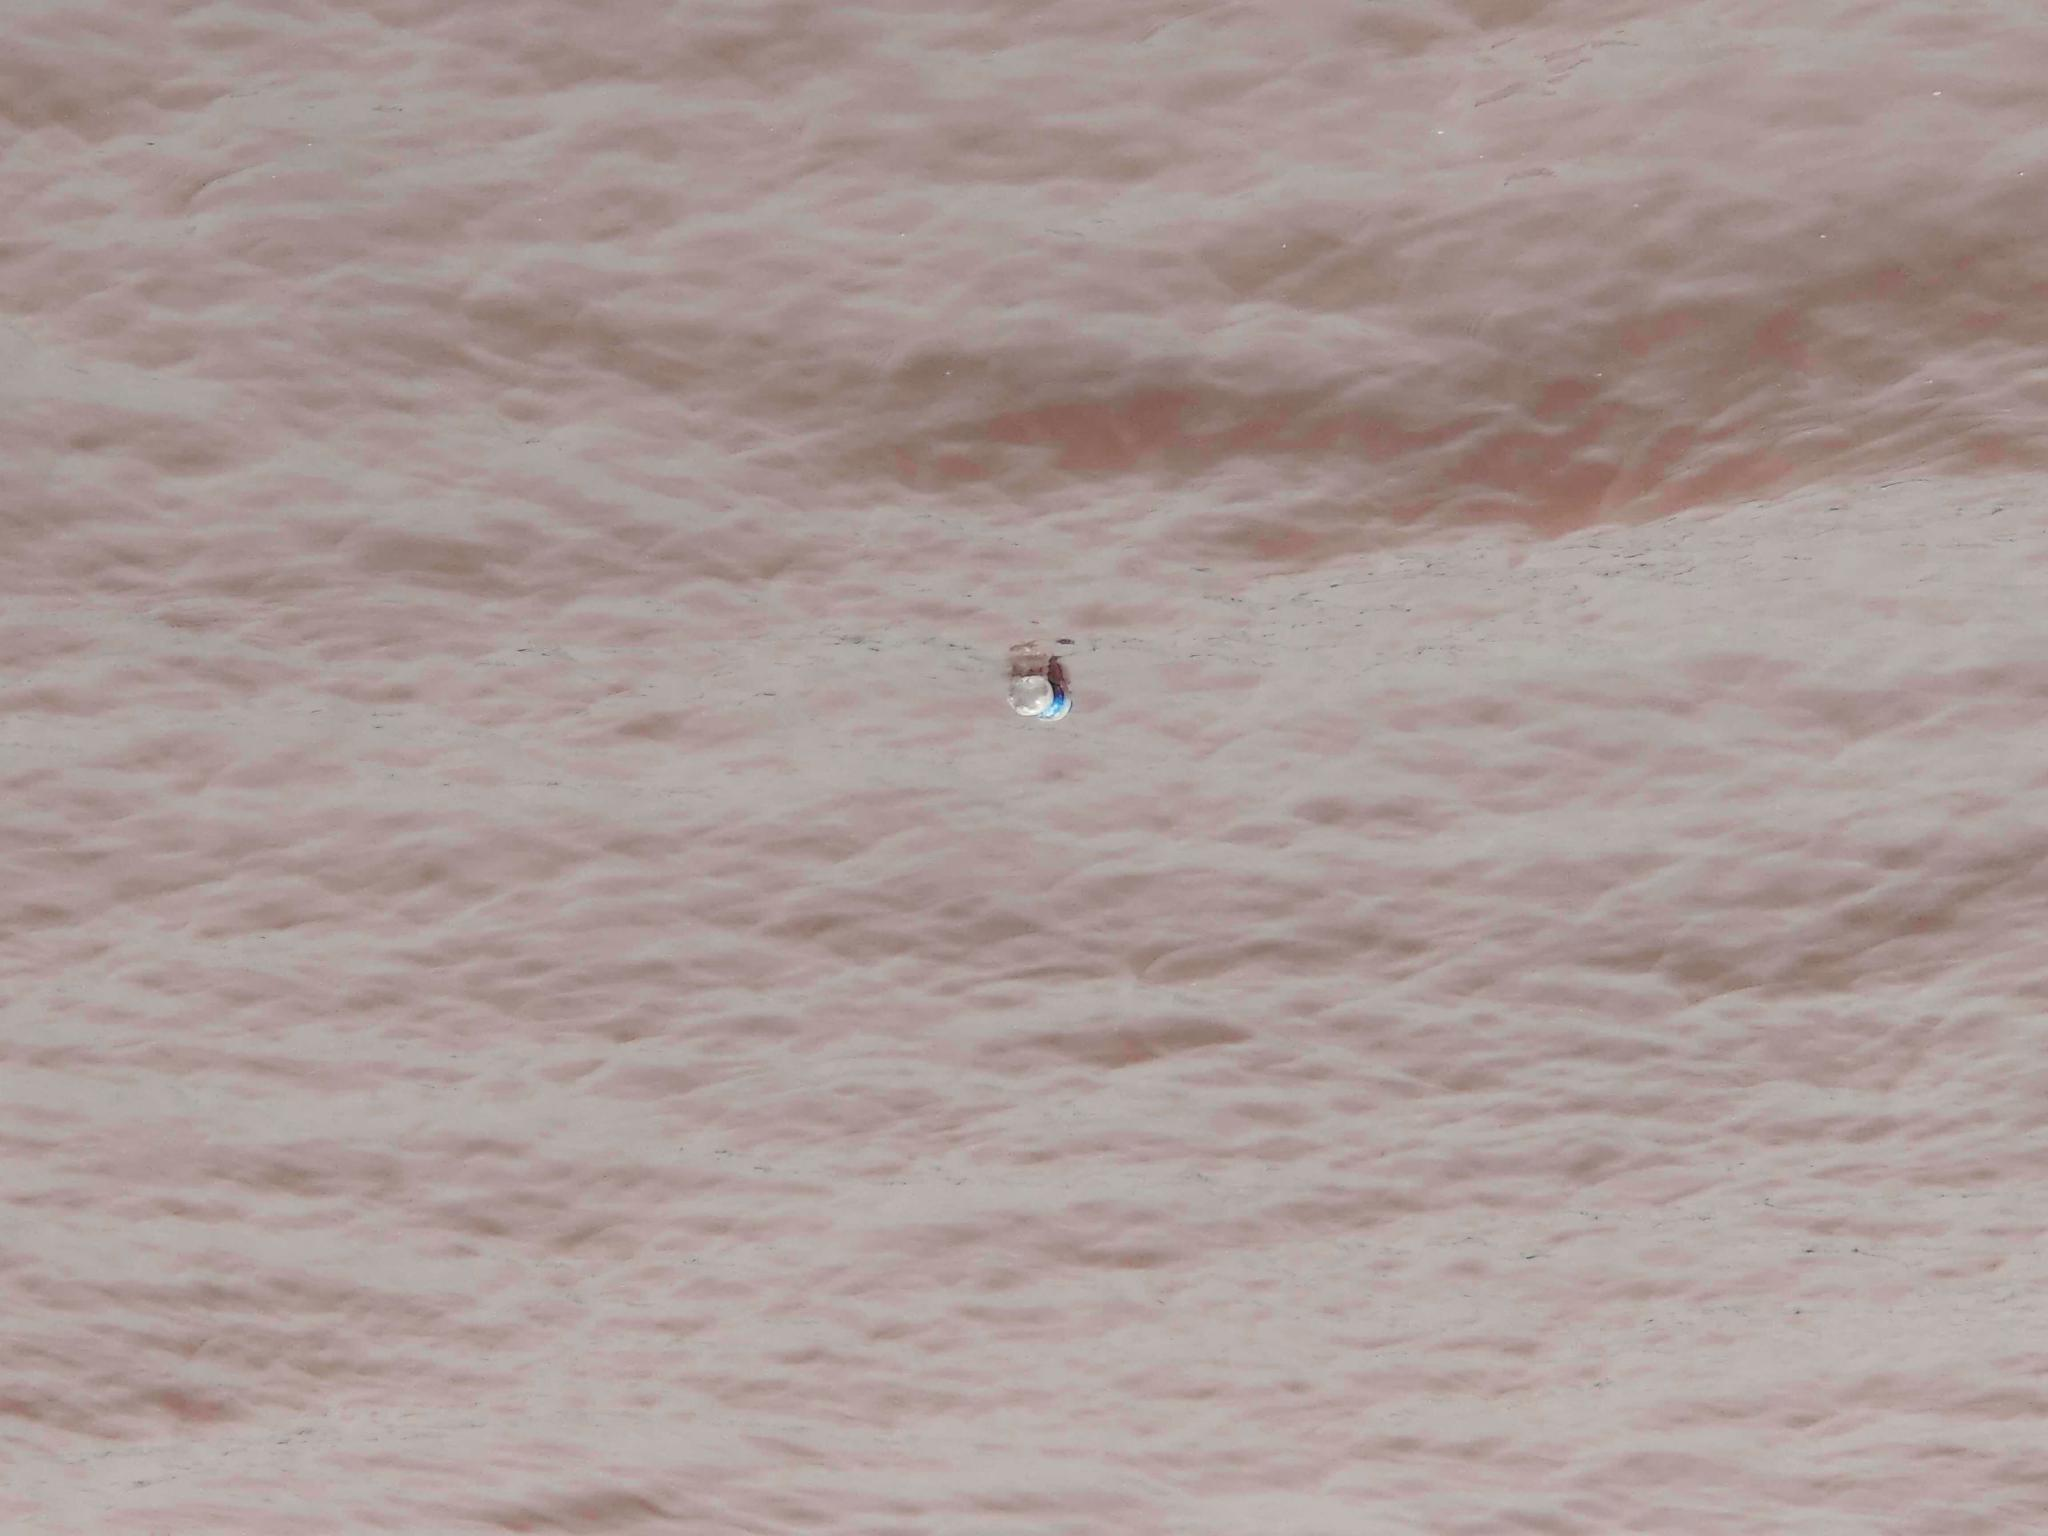Plastic: (997, 668, 1077, 721)
